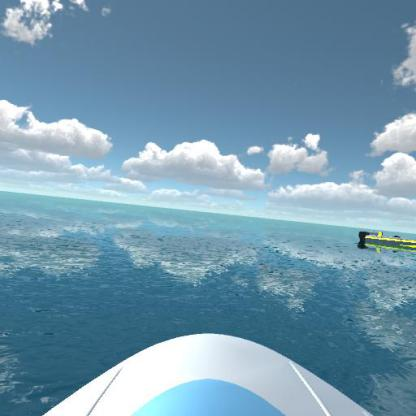usv2: (357, 222, 415, 261)
